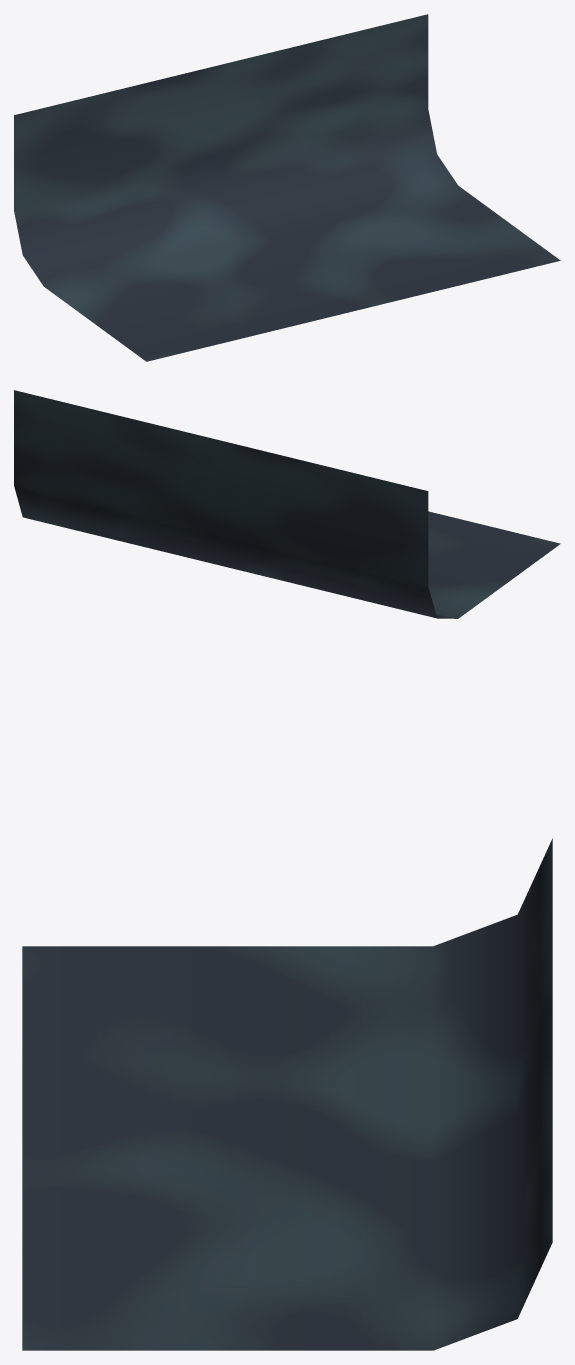
File: back_plane.glb
3 renders of one model, top to bottom at view 1: azimuth 30°, elevation 25°; view 2: azimuth 150°, elevation 25°; view 3: azimuth 270°, elevation 25°, orthographic. The views are drawn at different scales.
Visible parts, largest first — view 1: back_plane; view 2: back_plane; view 3: back_plane.
Part boxes in pixels (bbox=[...]): back_plane: bbox=[14, 14, 560, 361]; back_plane: bbox=[14, 390, 560, 618]; back_plane: bbox=[22, 838, 552, 1350].
Size of the model in its own units: 19.85 by 6.85 by 11.
1 material, 1 textured.
